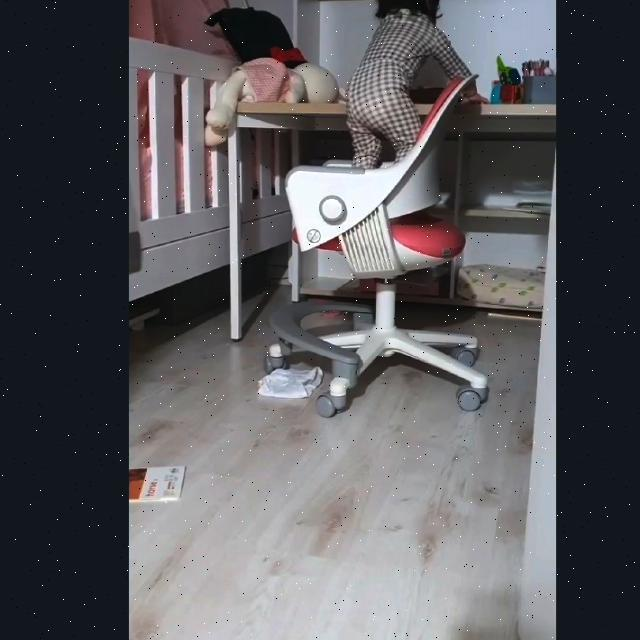child: (350, 0, 470, 208)
